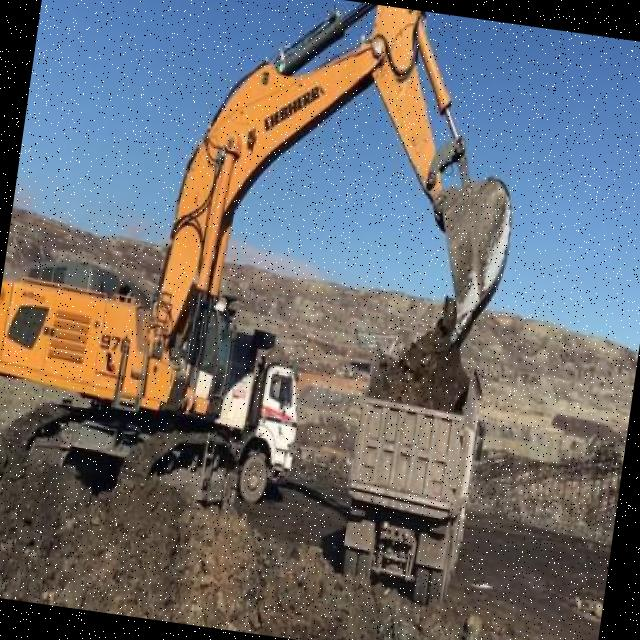Dump Truck: (332, 342, 494, 606), (210, 321, 312, 507)
Excavator: (0, 0, 541, 553)
